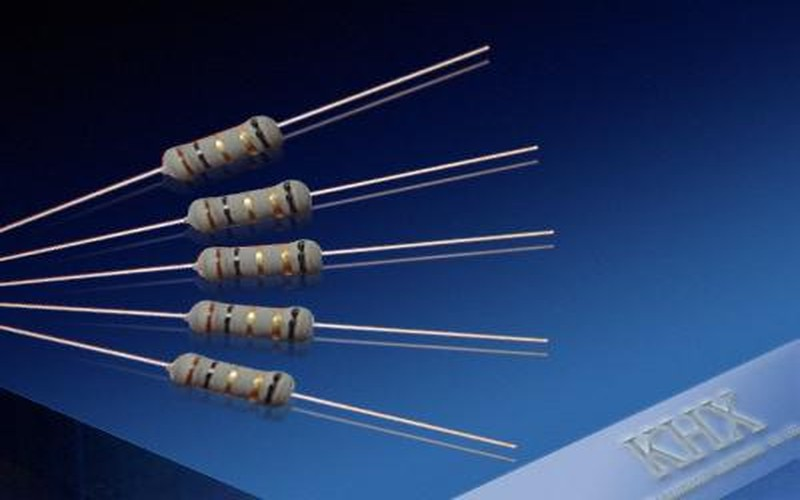Resistor: (142, 72, 353, 430)
